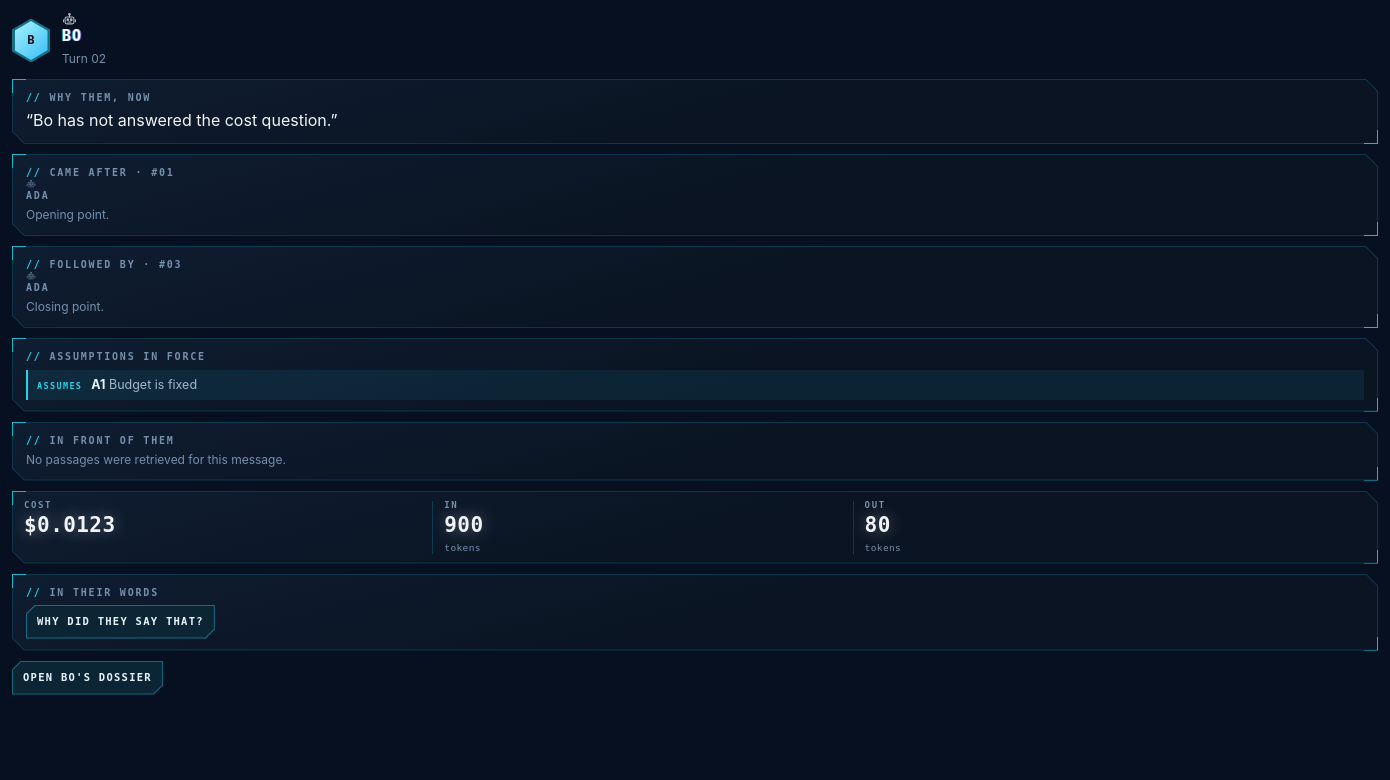
Scenario: a message’s context › loads the speaker’s own account on request
Click the button "Why did they say that?" at (120, 622), box [26, 604, 215, 638]
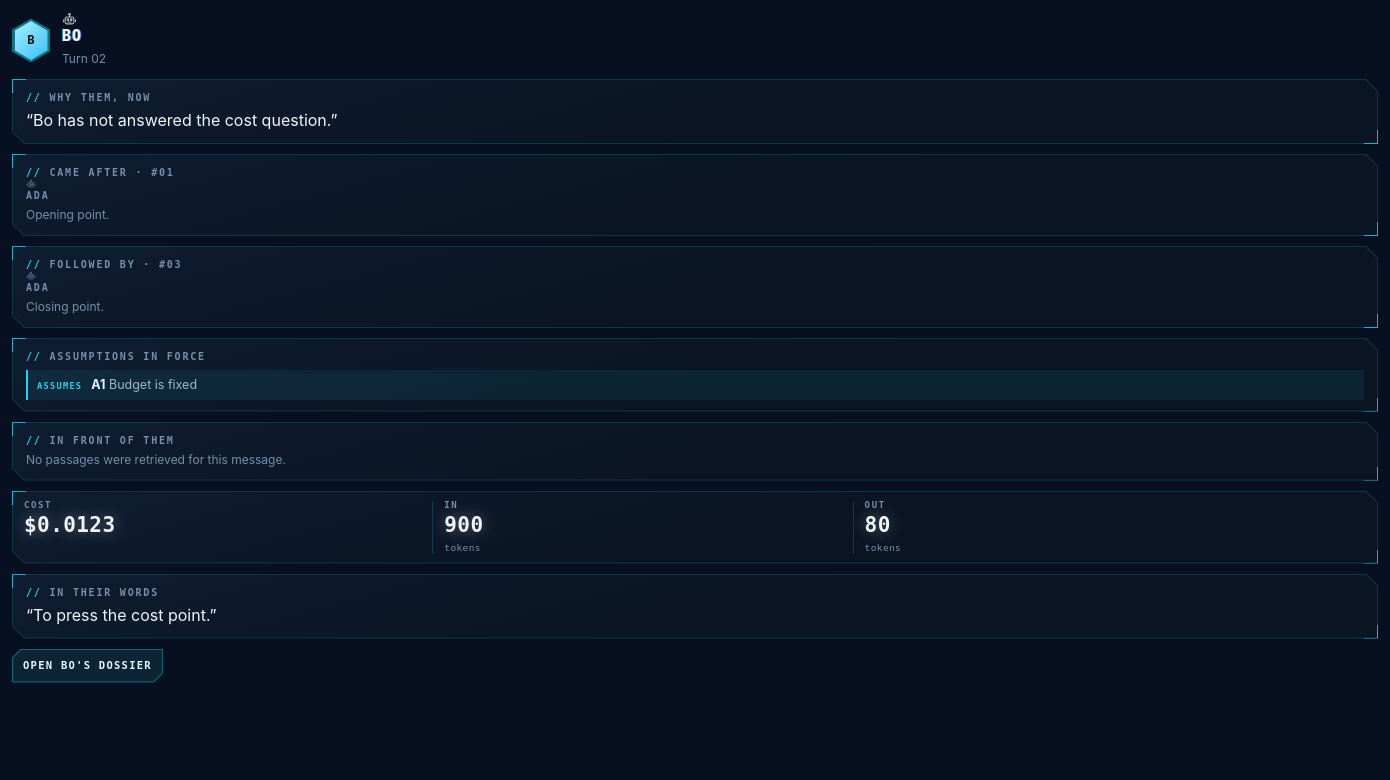
Check: the text "“To press the cost point.”" is shown, box [26, 604, 217, 624]
